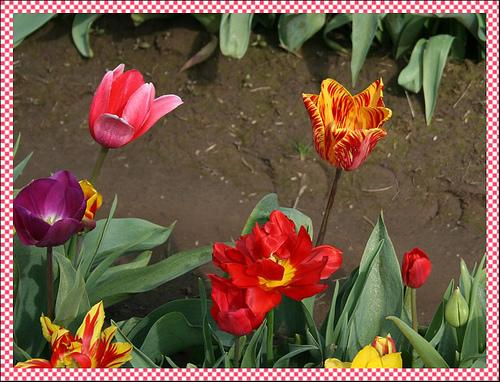tulip: (301, 75, 392, 173), (86, 61, 183, 150)
